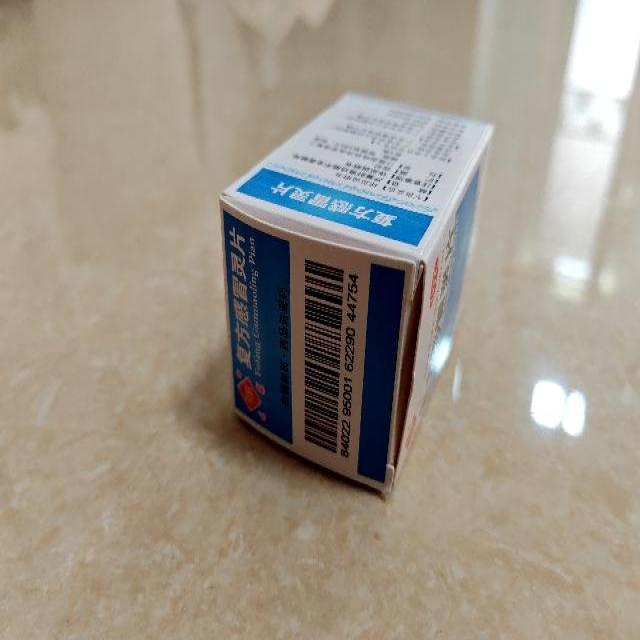box: (220, 92, 496, 497)
